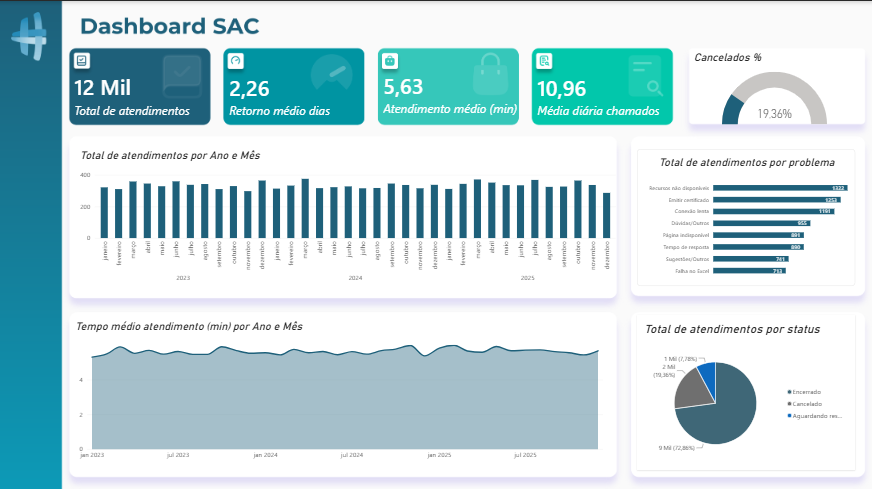

Layout of this report page (visuals, bound fields, positions):
{"tool":"powerbi","page":{"name":"Página 1","canvas":[1920,1080],"ordinal":0},"visuals":[{"type":"cardVisual","fields":{"Data":["fOcorrencias.Total de atendimentos"]},"box":[148.7,133.5,340.2,148.7],"z":0},{"type":"cardVisual","fields":{"Data":["fOcorrencias.Tempo médio retorno (dias)"]},"box":[488.8,133.5,340,150],"z":1000},{"type":"cardVisual","fields":{"Data":["fOcorrencias.Tempo médio atendimento (min)"]},"box":[829,131,340,150],"z":2000},{"type":"columnChart","fields":{"Category":["fOcorrencias.Data Chamado.Variation.Hierarquia de datas.Ano","fOcorrencias.Data Chamado.Variation.Hierarquia de datas.Mês"],"Y":["fOcorrencias.Total de atendimentos"]},"box":[176.7,325.6,1181.4,302.3],"z":3000},{"type":"gauge","title":"Cancelados %","fields":{"Y":["fOcorrencias.% Cancelados"]},"box":[1529.1,110.5,354.7,161.6],"z":4000},{"type":"areaChart","fields":{"Category":["fOcorrencias.Data Chamado.Variation.Hierarquia de datas.Ano","fOcorrencias.Data Chamado.Variation.Hierarquia de datas.Mês"],"Y":["fOcorrencias.Tempo médio atendimento (min)"]},"box":[148.8,690.7,1209.3,341.9],"z":5000},{"type":"cardVisual","fields":{"Data":["fOcorrencias.Média diária chamados"]},"box":[1167.4,134.9,340,150],"z":6000},{"type":"barChart","title":"Total de atendimentos por problema","fields":{"Category":["dProblema.Problema"],"Y":["fOcorrencias.Total de atendimentos"]},"box":[1404.7,325.6,481.4,302.3],"z":7000},{"type":"pieChart","title":"Total de atendimentos por status","fields":{"Category":["fOcorrencias.Status"],"Y":["fOcorrencias.Total de atendimentos"]},"box":[1405,691,481,342],"z":7001}]}

Visuals, with their boxes in screenshot pixels (x1, y1, x2, y2), scaled from the page's 1920x1080 canvas onto the 872x489 screenshot:
cardVisual - fOcorrencias.Total de atendimentos: bbox=[68, 60, 222, 128]
cardVisual - fOcorrencias.Tempo médio retorno (dias): bbox=[222, 60, 376, 128]
cardVisual - fOcorrencias.Tempo médio atendimento (min): bbox=[377, 59, 531, 127]
columnChart - fOcorrencias.Data Chamado.Variation.Hierarquia de datas.Ano x fOcorrencias.Data Chamado.Variation.Hierarquia de datas.Mês: bbox=[80, 147, 617, 284]
"Cancelados %" gauge: bbox=[694, 50, 856, 123]
areaChart - fOcorrencias.Data Chamado.Variation.Hierarquia de datas.Ano x fOcorrencias.Data Chamado.Variation.Hierarquia de datas.Mês: bbox=[68, 313, 617, 468]
cardVisual - fOcorrencias.Média diária chamados: bbox=[530, 61, 685, 129]
"Total de atendimentos por problema" barChart: bbox=[638, 147, 857, 284]
"Total de atendimentos por status" pieChart: bbox=[638, 313, 857, 468]
